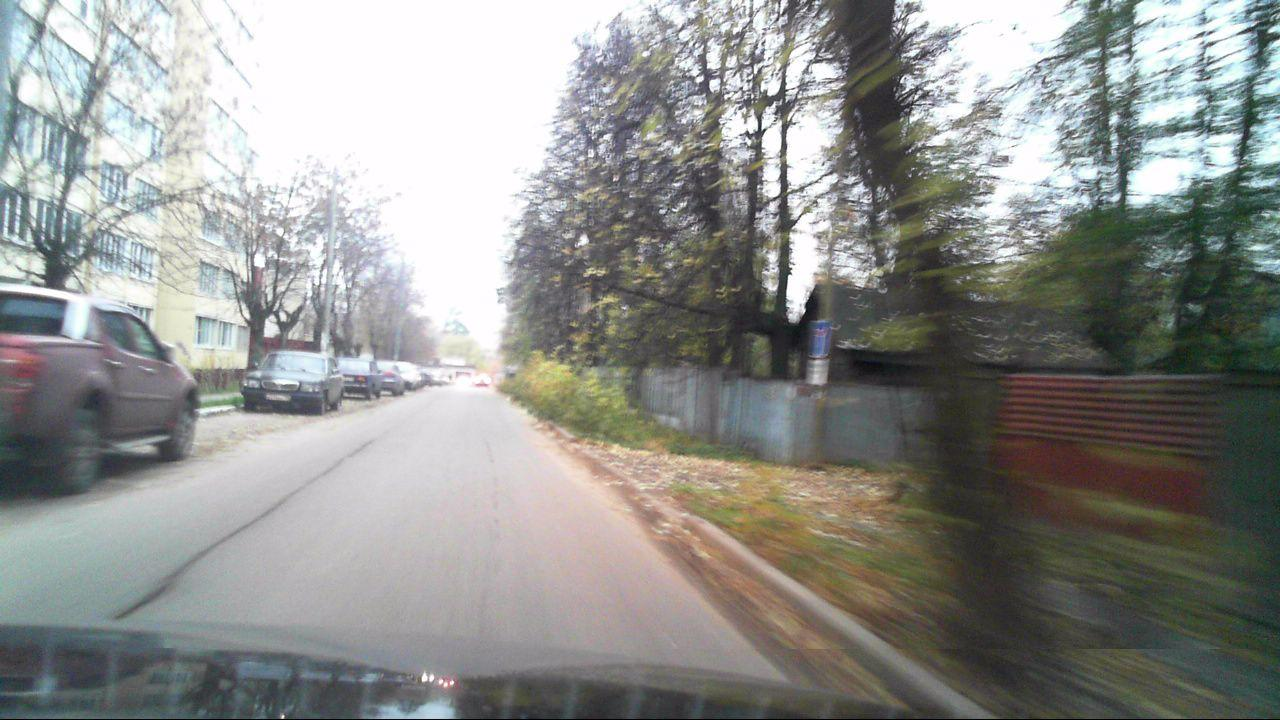6_8_1: (809, 319, 829, 357)
